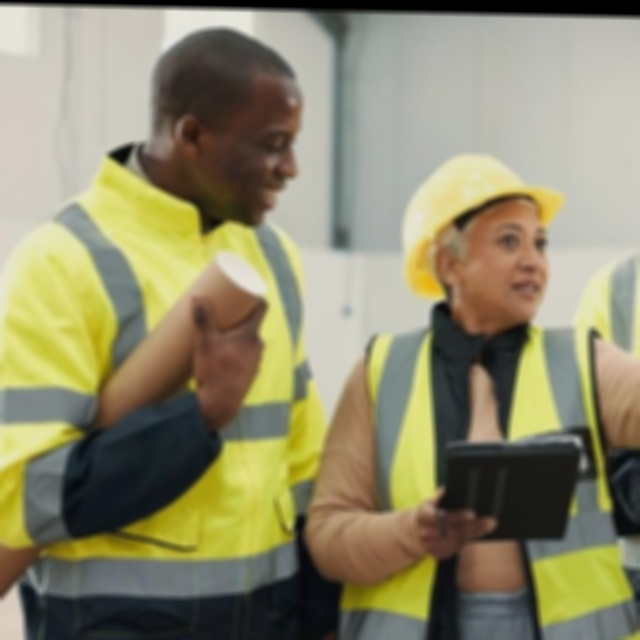Con_Casco: (400, 148, 565, 327)
Con_Chaleco: (0, 198, 322, 640), (339, 325, 640, 640)
Sin_Casco_Mascarrilla: (148, 23, 299, 231)
